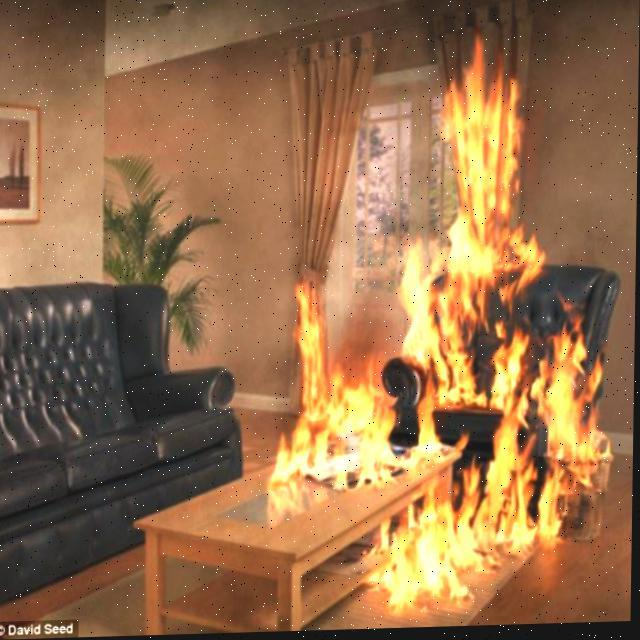Fire: (286, 40, 604, 610)
